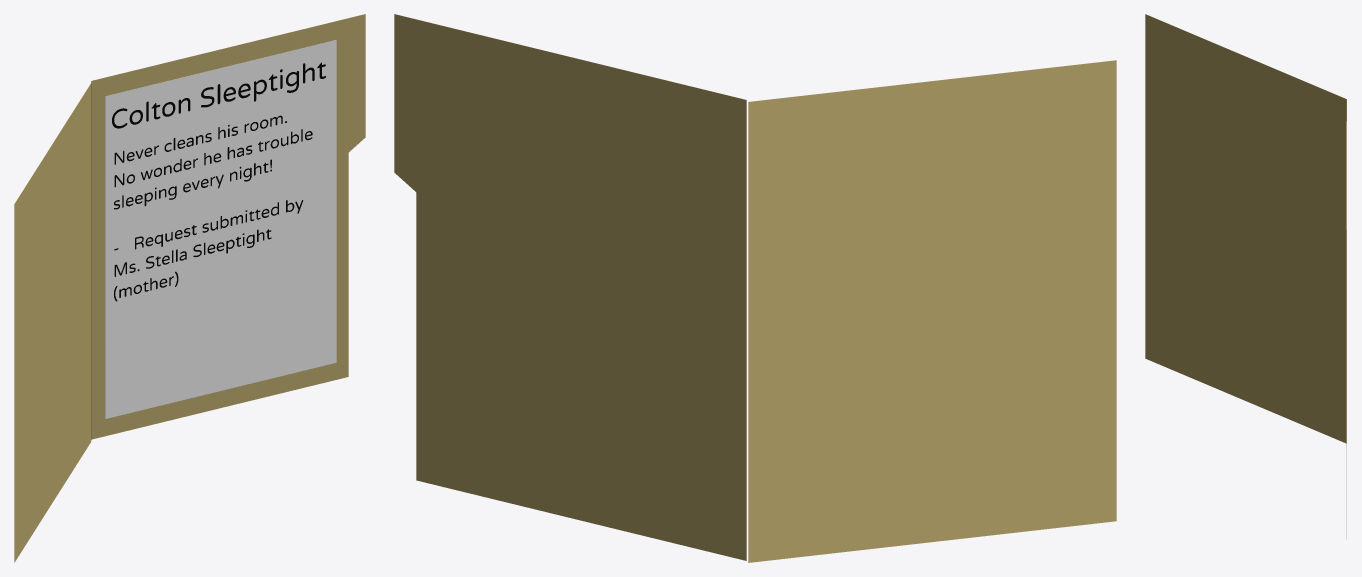
File: folder_one.fbx
3 views of the same model, side by side, from view 1: azimuth 30°, elevation 25°; view 2: azimuth 150°, elevation 25°; view 3: azimuth 270°, elevation 25° (orthographic). The views are drawn at different scales.
Visible parts, largest first — view 1: Text.001; view 2: Text.001; view 3: Text.001.
Boxes of the visible parts, x1=… form: Text.001: x1=14, y1=14, x2=365, y2=562; Text.001: x1=394, y1=14, x2=1116, y2=562; Text.001: x1=1145, y1=14, x2=1346, y2=539.
Bounding box in the file's own units: 267 × 201 × 107.
